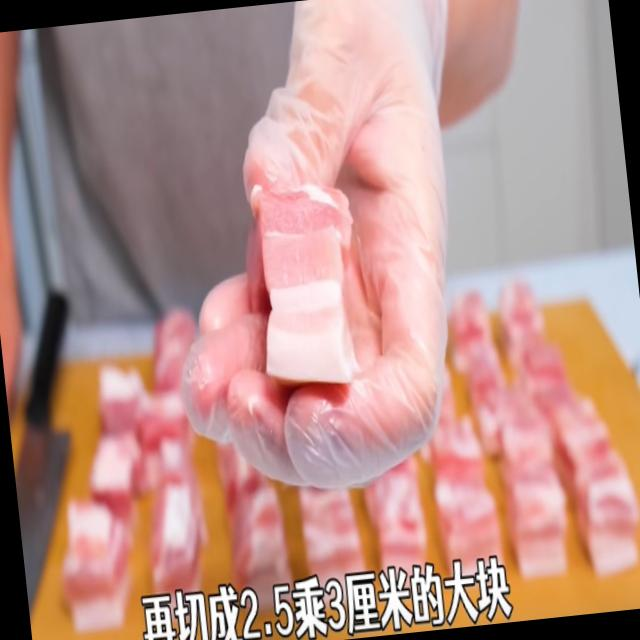pork: (249, 170, 370, 398)
